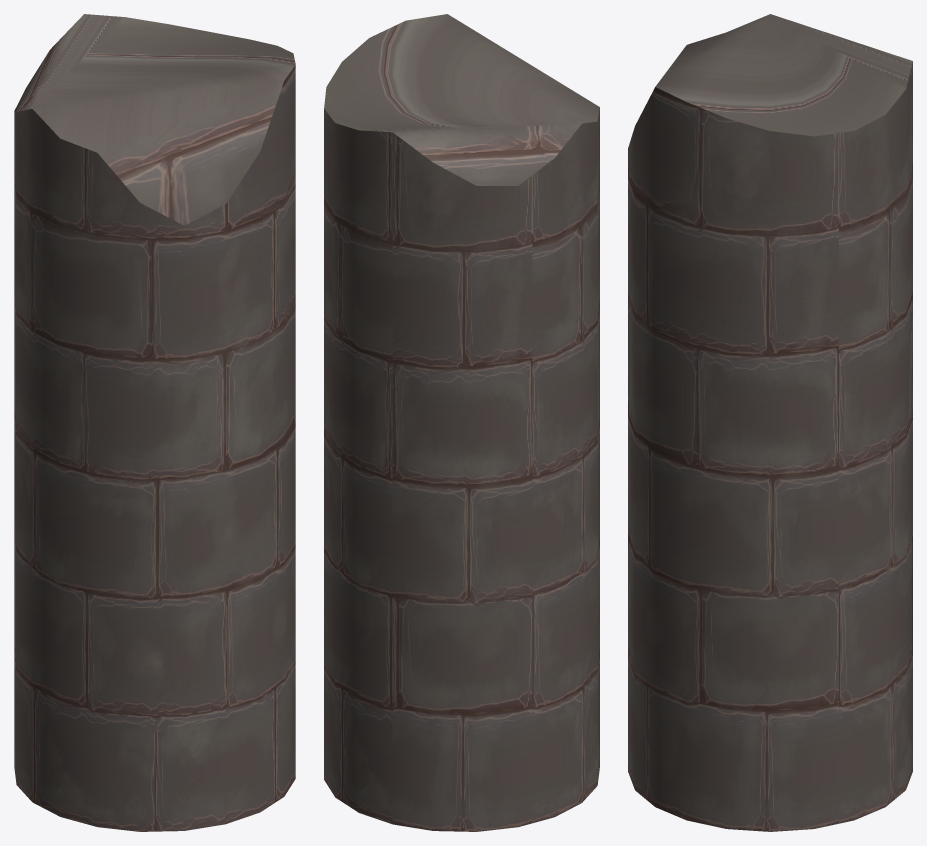
Rendered from PillarDamaged4_3.fbx.
3 renders of one model, left to right at view 1: azimuth 30°, elevation 25°; view 2: azimuth 150°, elevation 25°; view 3: azimuth 270°, elevation 25°, orthographic. The views are drawn at different scales.
Parts seen in each view (by area): view 1: polySurface193; view 2: polySurface193; view 3: polySurface193.
Part boxes in pixels (x1,y1,x2,y2): polySurface193: (14, 14, 295, 831); polySurface193: (324, 14, 599, 831); polySurface193: (628, 14, 912, 831).
Size of the model in its own units: 22.73 by 63.43 by 22.73.
